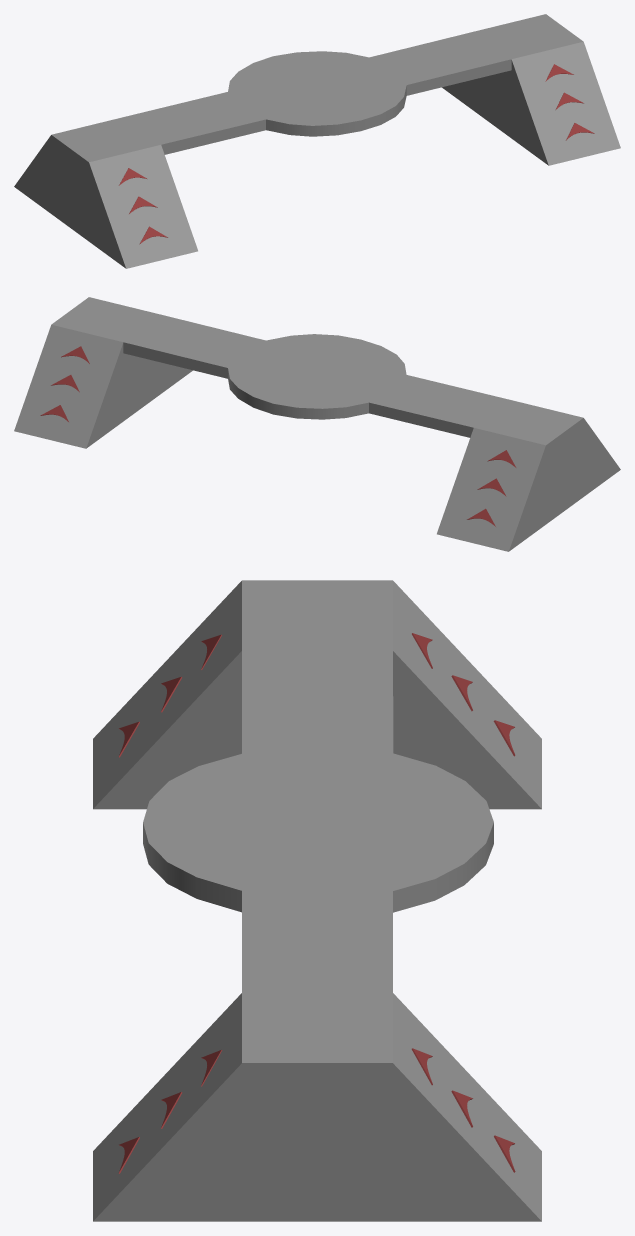
File: qiao.fbx
3 renders of one model, top to bottom at view 1: azimuth 30°, elevation 25°; view 2: azimuth 150°, elevation 25°; view 3: azimuth 270°, elevation 25°, orthographic. The views are drawn at different scales.
Parts seen in each view (by area): view 1: 对象005; view 2: 对象005; view 3: 对象005.
Boxes of the visible parts, <box> form: 对象005: <box>14,14,620,268</box>; 对象005: <box>14,297,620,551</box>; 对象005: <box>93,580,541,1221</box>.
Bounding box in the file's own units: 2146 × 329 × 843.
